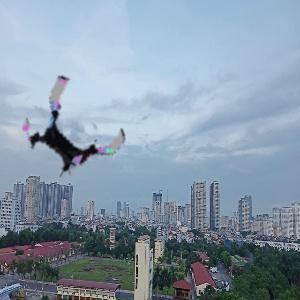drone: (23, 81, 128, 186)
